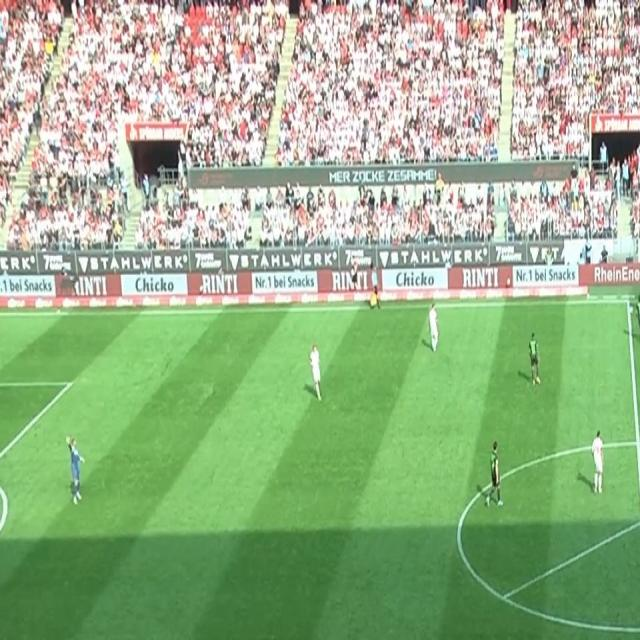ball: (627, 302, 634, 314)
